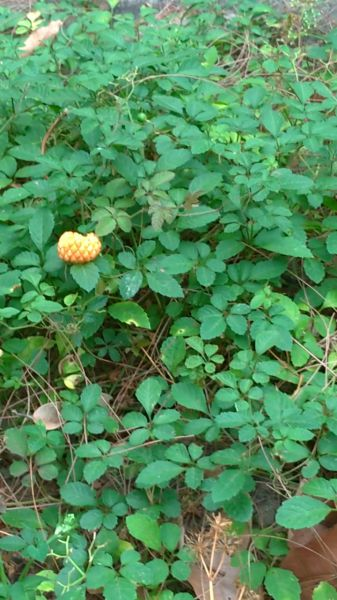eggs: (51, 224, 109, 270)
